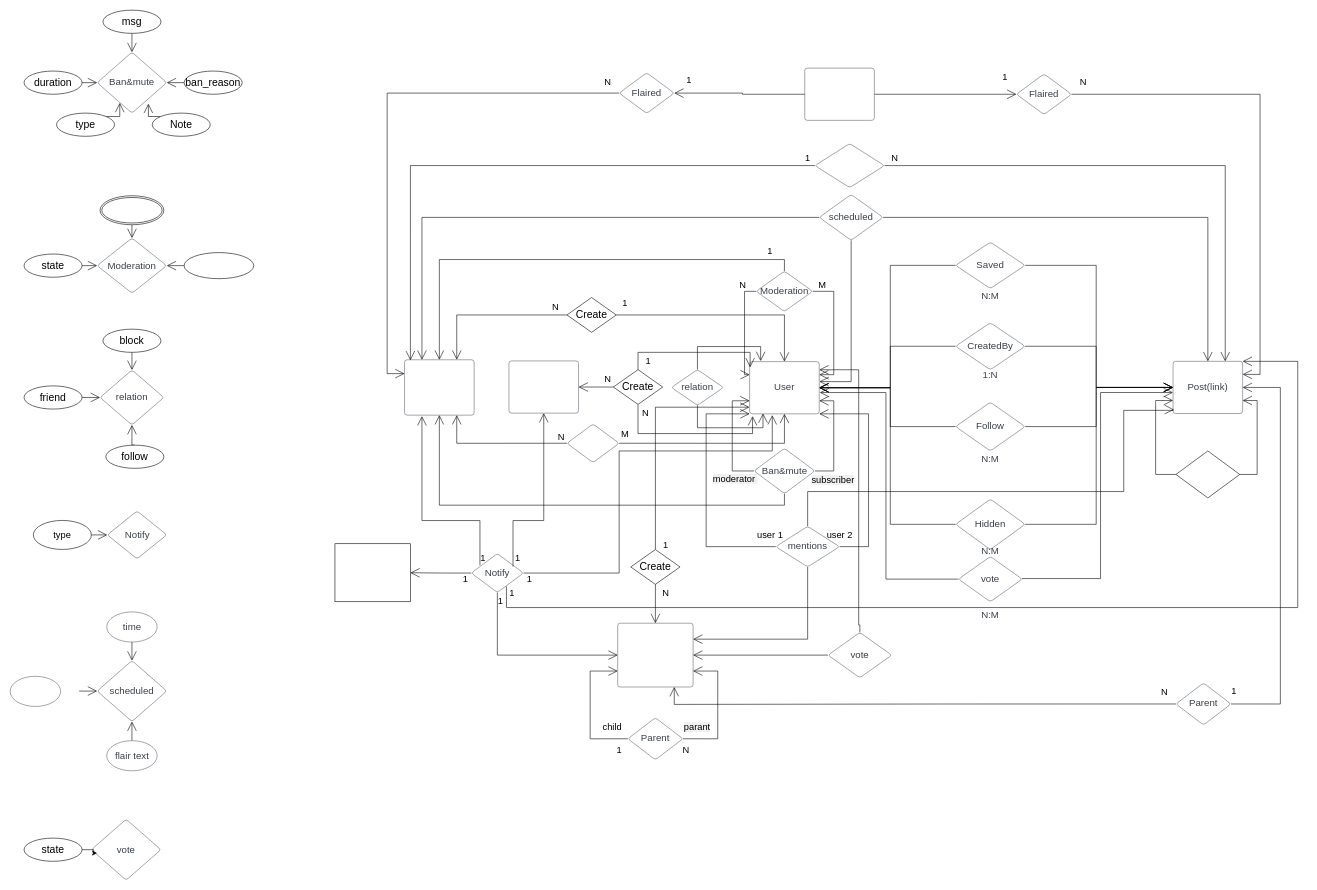
Some shapes in this 1317 by 890 pixel diagram are drawn without their labels. Each missing label, with the centre of its shape:
"appintment time" goes at point (219, 265).
"Comment" goes at point (655, 655).
"Flair" goes at point (839, 94).
"Message" goes at point (543, 386).
"Notification" goes at point (372, 572).
"Owner" goes at point (849, 165).
"permissions" goes at point (131, 210).
"repeat options" goes at point (35, 691).
"Share" goes at point (1207, 474).
"Subreddit" goes at point (439, 387).
"subscribe" goes at point (592, 442).
